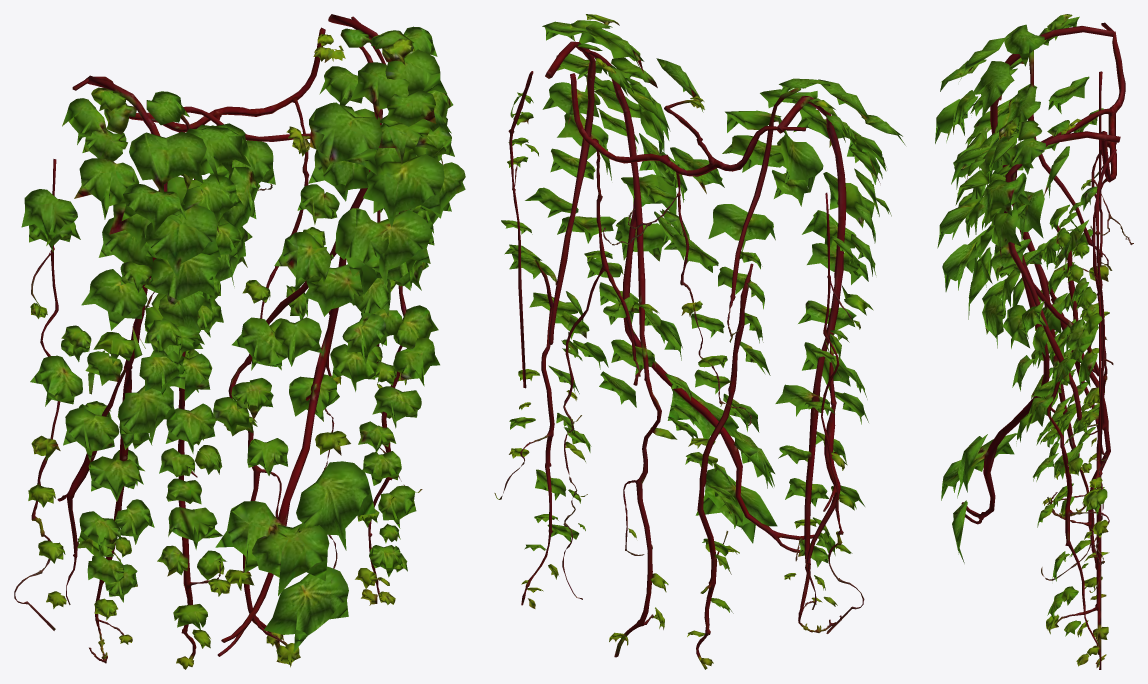
File: prop-vines.glb
The picture shows the model from 3 angles, left to right: view 1: azimuth 30°, elevation 25°; view 2: azimuth 150°, elevation 25°; view 3: azimuth 270°, elevation 25°; orthographic projection. The views are drawn at different scales.
Parts seen in each view (by area): view 1: Object_4; view 2: Object_4; view 3: Object_4.
Part boxes in pixels (x1,y1,x2,y2): Object_4: [14, 14, 465, 669]; Object_4: [494, 14, 905, 669]; Object_4: [935, 14, 1133, 669].
Size of the model in its own units: 0.6673 by 1 by 0.3229.
Materials: 1 (1 with a texture image).
